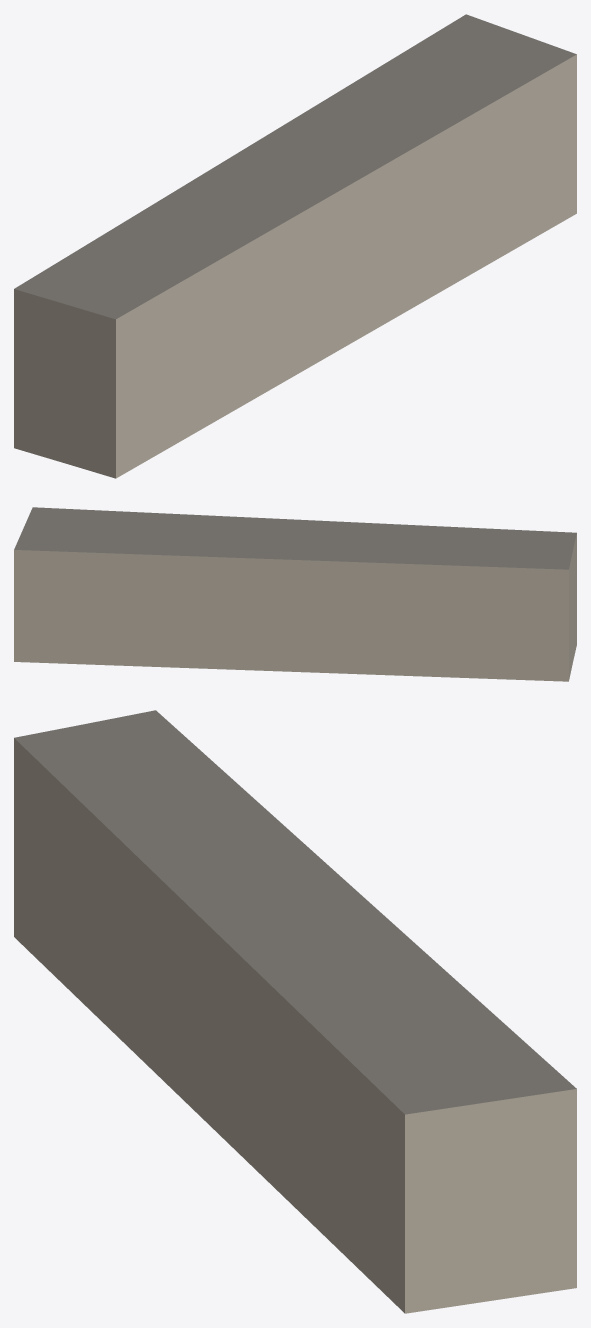
The picture shows the model from 3 angles, top to bottom: view 1: azimuth 30°, elevation 25°; view 2: azimuth 150°, elevation 25°; view 3: azimuth 270°, elevation 25°; orthographic projection. The views are drawn at different scales.
Visible parts, largest first — view 1: HP-w1512459547; view 2: HP-w1512459547; view 3: HP-w1512459547.
Boxes of the visible parts, bbox=[...] form: HP-w1512459547: bbox=[14, 14, 576, 478]; HP-w1512459547: bbox=[14, 507, 576, 681]; HP-w1512459547: bbox=[14, 710, 576, 1313].
Size of the model in its own units: 78.37 by 18 by 46.11.
